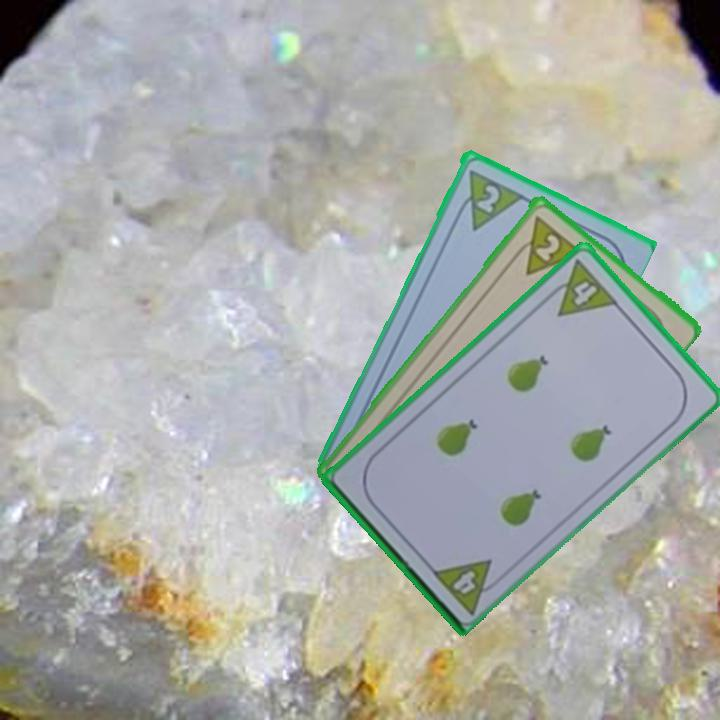2p: (506, 210, 585, 278), (450, 165, 524, 233)
4p: (540, 255, 621, 319), (427, 555, 507, 616)
